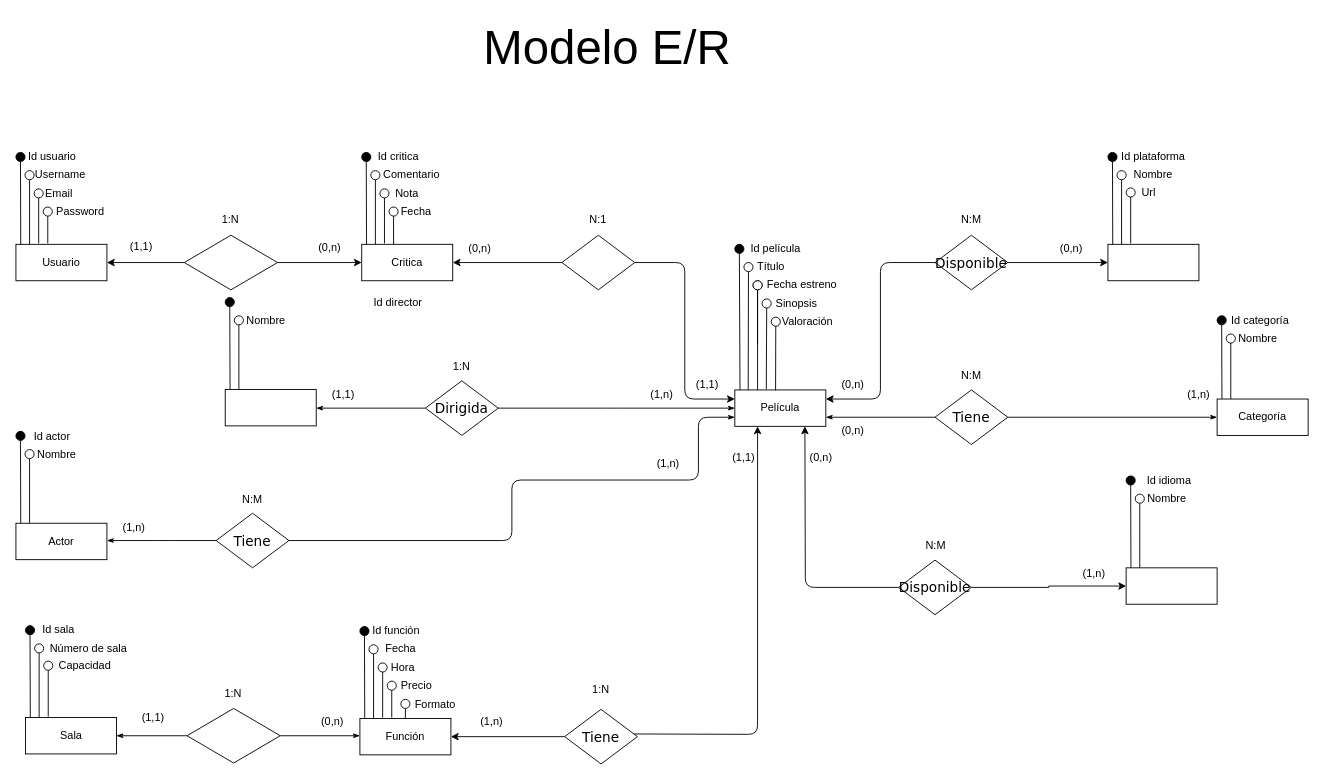
The diagram is 1324 pixels wide and 780 high, and some of its shapes have lost their labels. Each missing label, with the box of its shape:
Director: (224, 389, 316, 426)
Idioma: (1125, 567, 1217, 604)
Obtiene: (561, 234, 635, 290)
Plataforma: (1107, 243, 1199, 281)
Realiza: (183, 234, 278, 290)
Reproducida: (186, 708, 280, 763)
